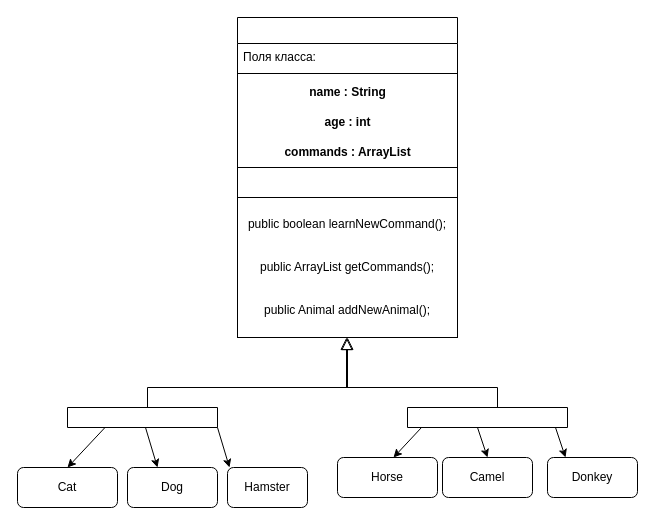
Image size: 655x525. Some labels were removed from this diagram. Each missing label, with the box of its shape:
PackAnimals: (406, 406, 568, 428)
Pets: (66, 406, 218, 428)
Методы:: (236, 166, 458, 198)
Родительский класс: Animal: (236, 16, 458, 168)
